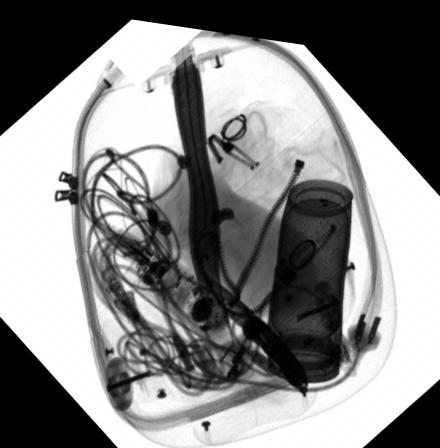Knife: (206, 267, 308, 386)
